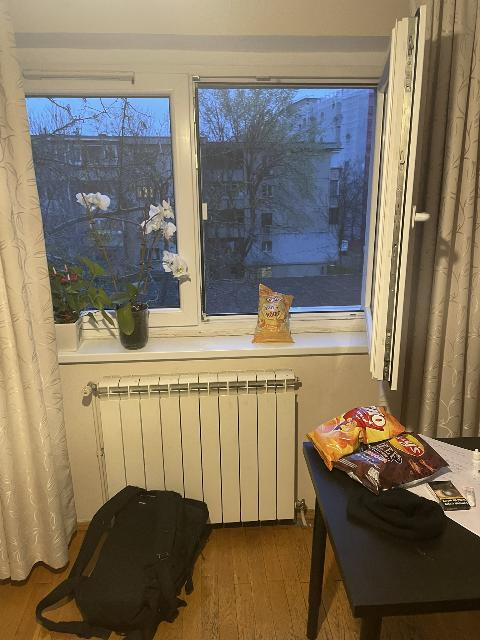Chio Cascaval 125g: (306, 402, 403, 472)
Chio Hula Hoops Cheese 70g: (250, 282, 294, 343)
Lays Beef Grilled Ribs 125g: (343, 433, 446, 493)
